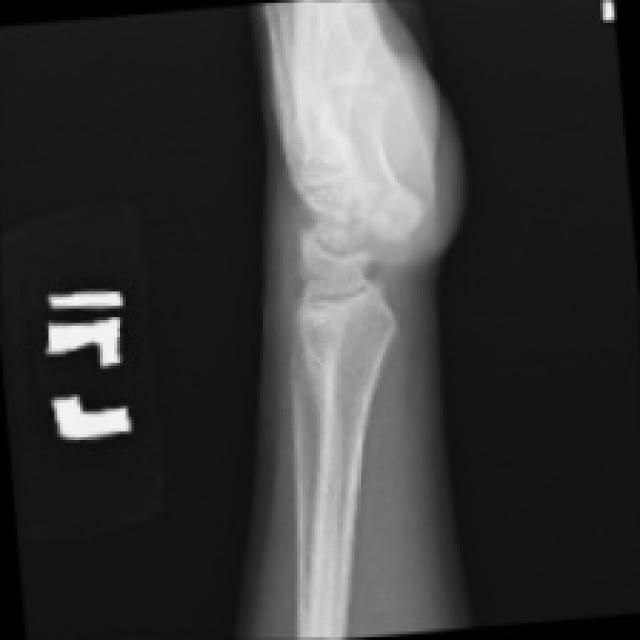fracture: (298, 200, 438, 358)
